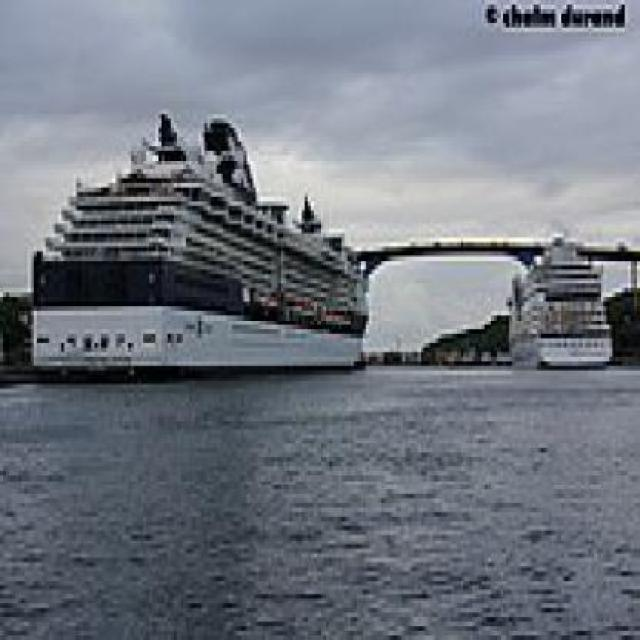cruise: (10, 107, 392, 390)
